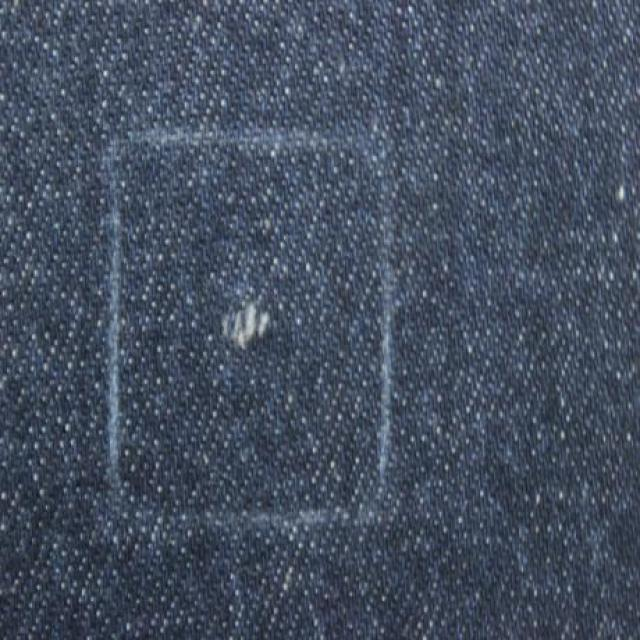stains: (188, 268, 326, 392)
